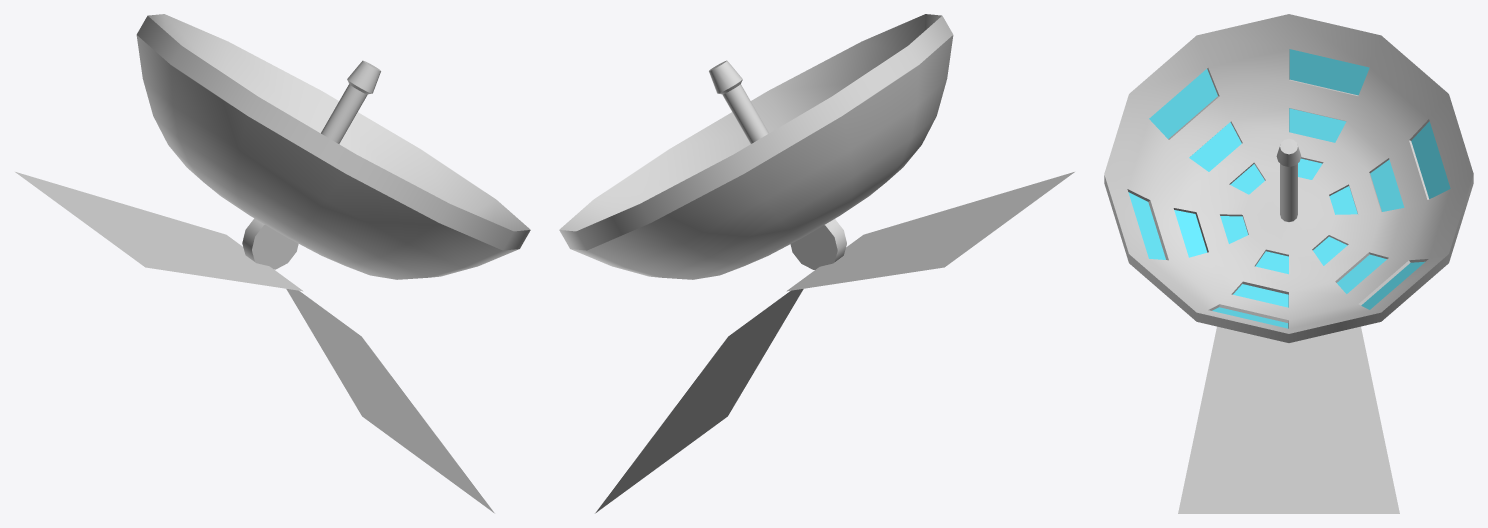
Rendered from Mod_Pauldron_L_Recon2.fbx.
3 views of the same model, side by side, from view 1: azimuth 30°, elevation 25°; view 2: azimuth 150°, elevation 25°; view 3: azimuth 270°, elevation 25° (orthographic). The views are drawn at different scales.
Visible parts, largest first — view 1: Mod_Pauldron_L_Recon2; view 2: Mod_Pauldron_L_Recon2; view 3: Mod_Pauldron_L_Recon2.
Part boxes in pixels (x1,y1,x2,y2): Mod_Pauldron_L_Recon2: (15, 14, 530, 513); Mod_Pauldron_L_Recon2: (559, 14, 1074, 513); Mod_Pauldron_L_Recon2: (1104, 14, 1473, 513).
Size of the model in its own units: 260 by 286 by 240.
